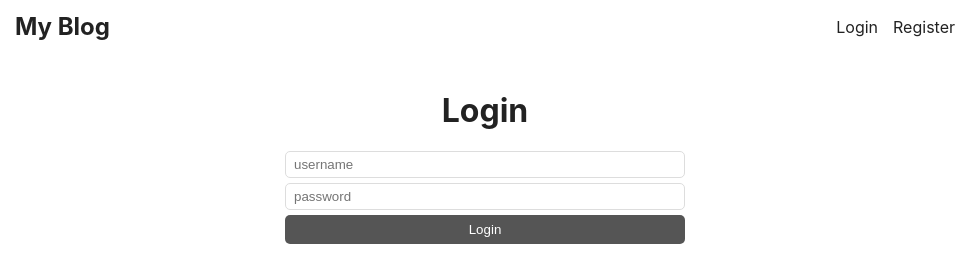
Test case: successful login updates the header and leaves the login page
Type "alice" into the field with placeholder "username" at (485, 165), box [285,151,685,178]
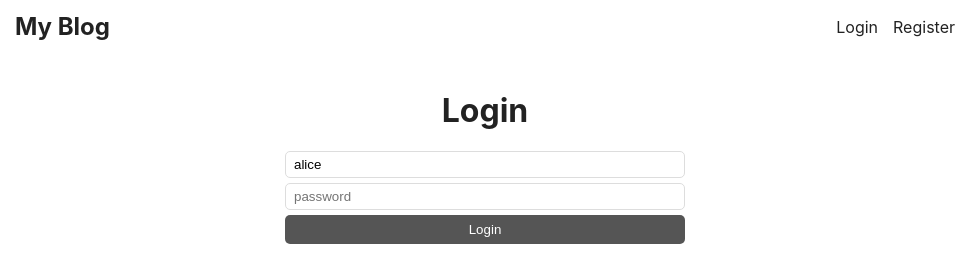
Type "Tr1cky-Horse-42" into the password field with placeholder "password" at (485, 197), box [285,183,685,210]
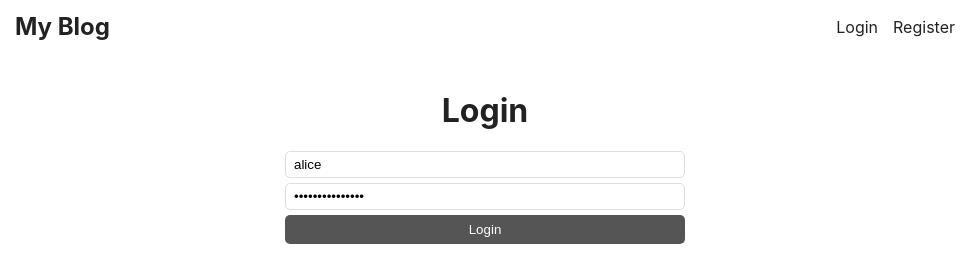
Click the button "Login" at (485, 230), box [285,215,685,244]
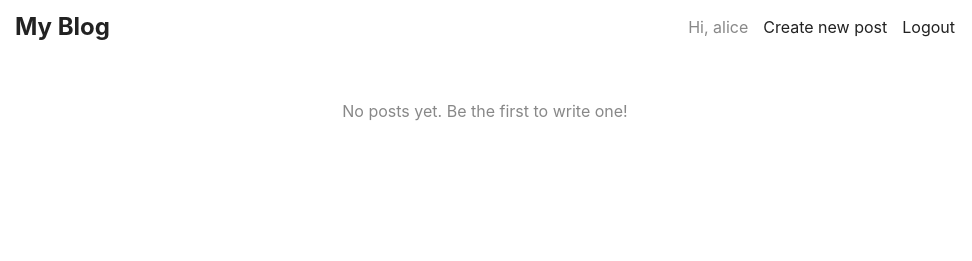
Expected: the text "Hi, alice" is shown, [688,16,748,36]
Expected: the text "No posts yet. Be the first to write one!" is shown, [342,101,628,121]
Expected: the link "Login" is gone
